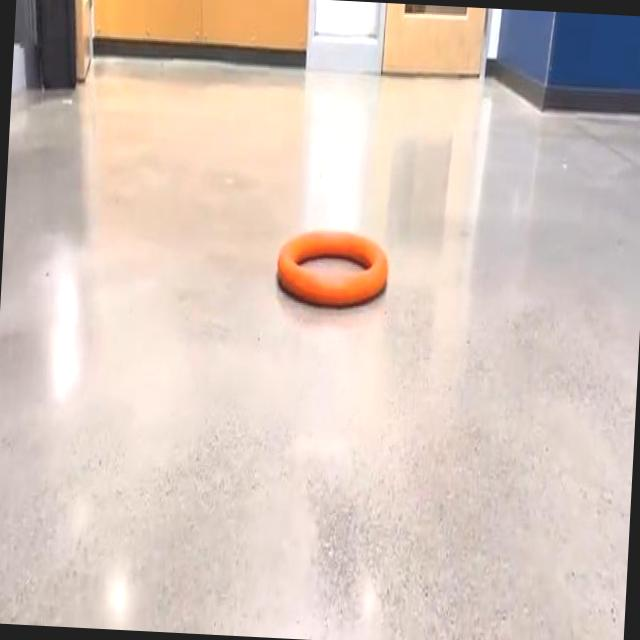note: (278, 229, 387, 307)
